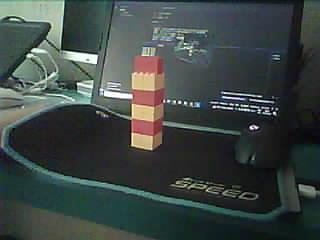lego: (129, 54, 166, 150)
